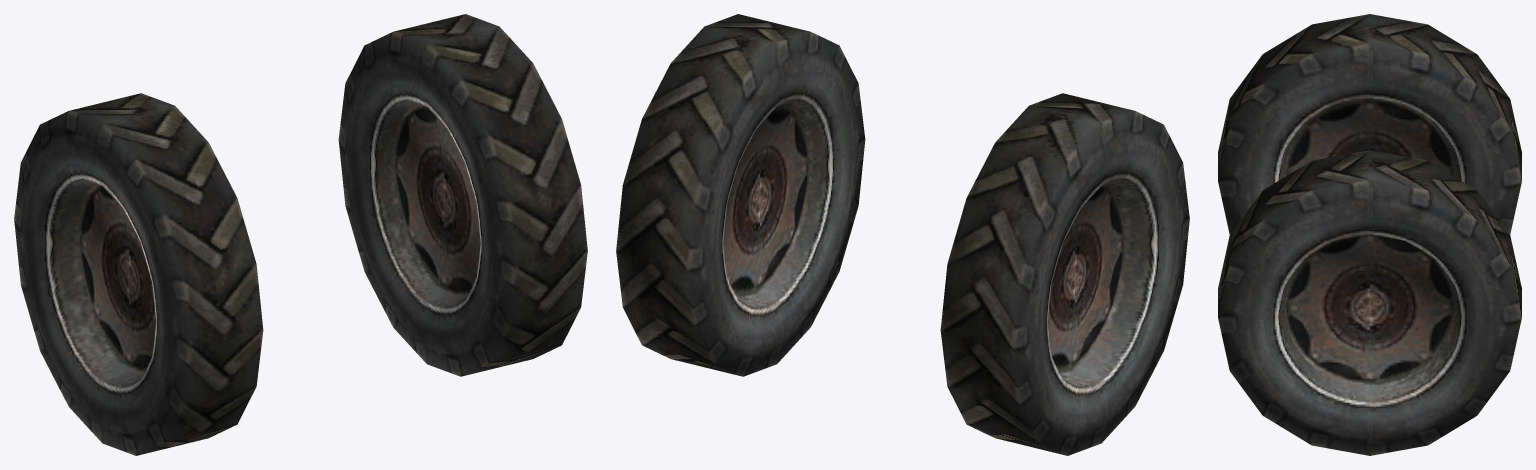
The model's file is tractor_rear_wheels.obj.
3 views of the same model, side by side, from view 1: azimuth 30°, elevation 25°; view 2: azimuth 150°, elevation 25°; view 3: azimuth 270°, elevation 25° (orthographic). The views are drawn at different scales.
Visible parts, largest first — view 1: rear_wheel_1_tractor.027, reat_wheel_2_tractor.005; view 2: reat_wheel_2_tractor.005, rear_wheel_1_tractor.027; view 3: rear_wheel_1_tractor.027, reat_wheel_2_tractor.005.
Part boxes in pixels (x1=…): rear_wheel_1_tractor.027: x1=338, y1=14, x2=587, y2=376; reat_wheel_2_tractor.005: x1=14, y1=93, x2=263, y2=455; reat_wheel_2_tractor.005: x1=940, y1=93, x2=1189, y2=455; rear_wheel_1_tractor.027: x1=616, y1=14, x2=865, y2=376; rear_wheel_1_tractor.027: x1=1218, y1=150, x2=1521, y2=455; reat_wheel_2_tractor.005: x1=1218, y1=14, x2=1521, y2=234.
Bounding box in the file's own units: 4.26 × 3.18 × 3.18.
